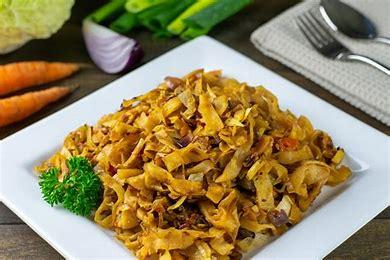Kottu: (55, 75, 370, 260)
